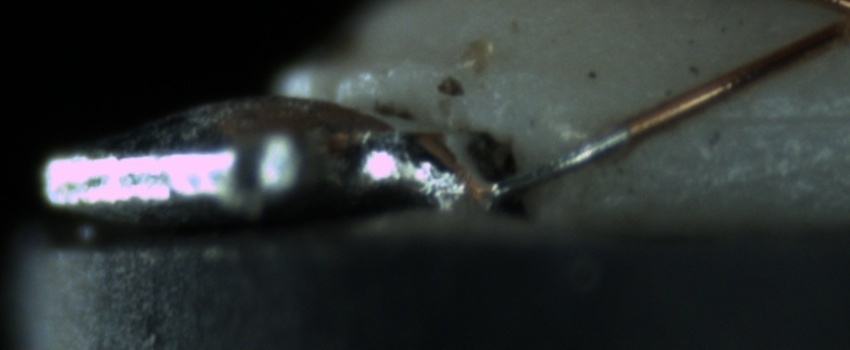CL: (811, 1, 849, 44)
DL: (701, 85, 849, 148)
TS: (481, 125, 628, 194)
